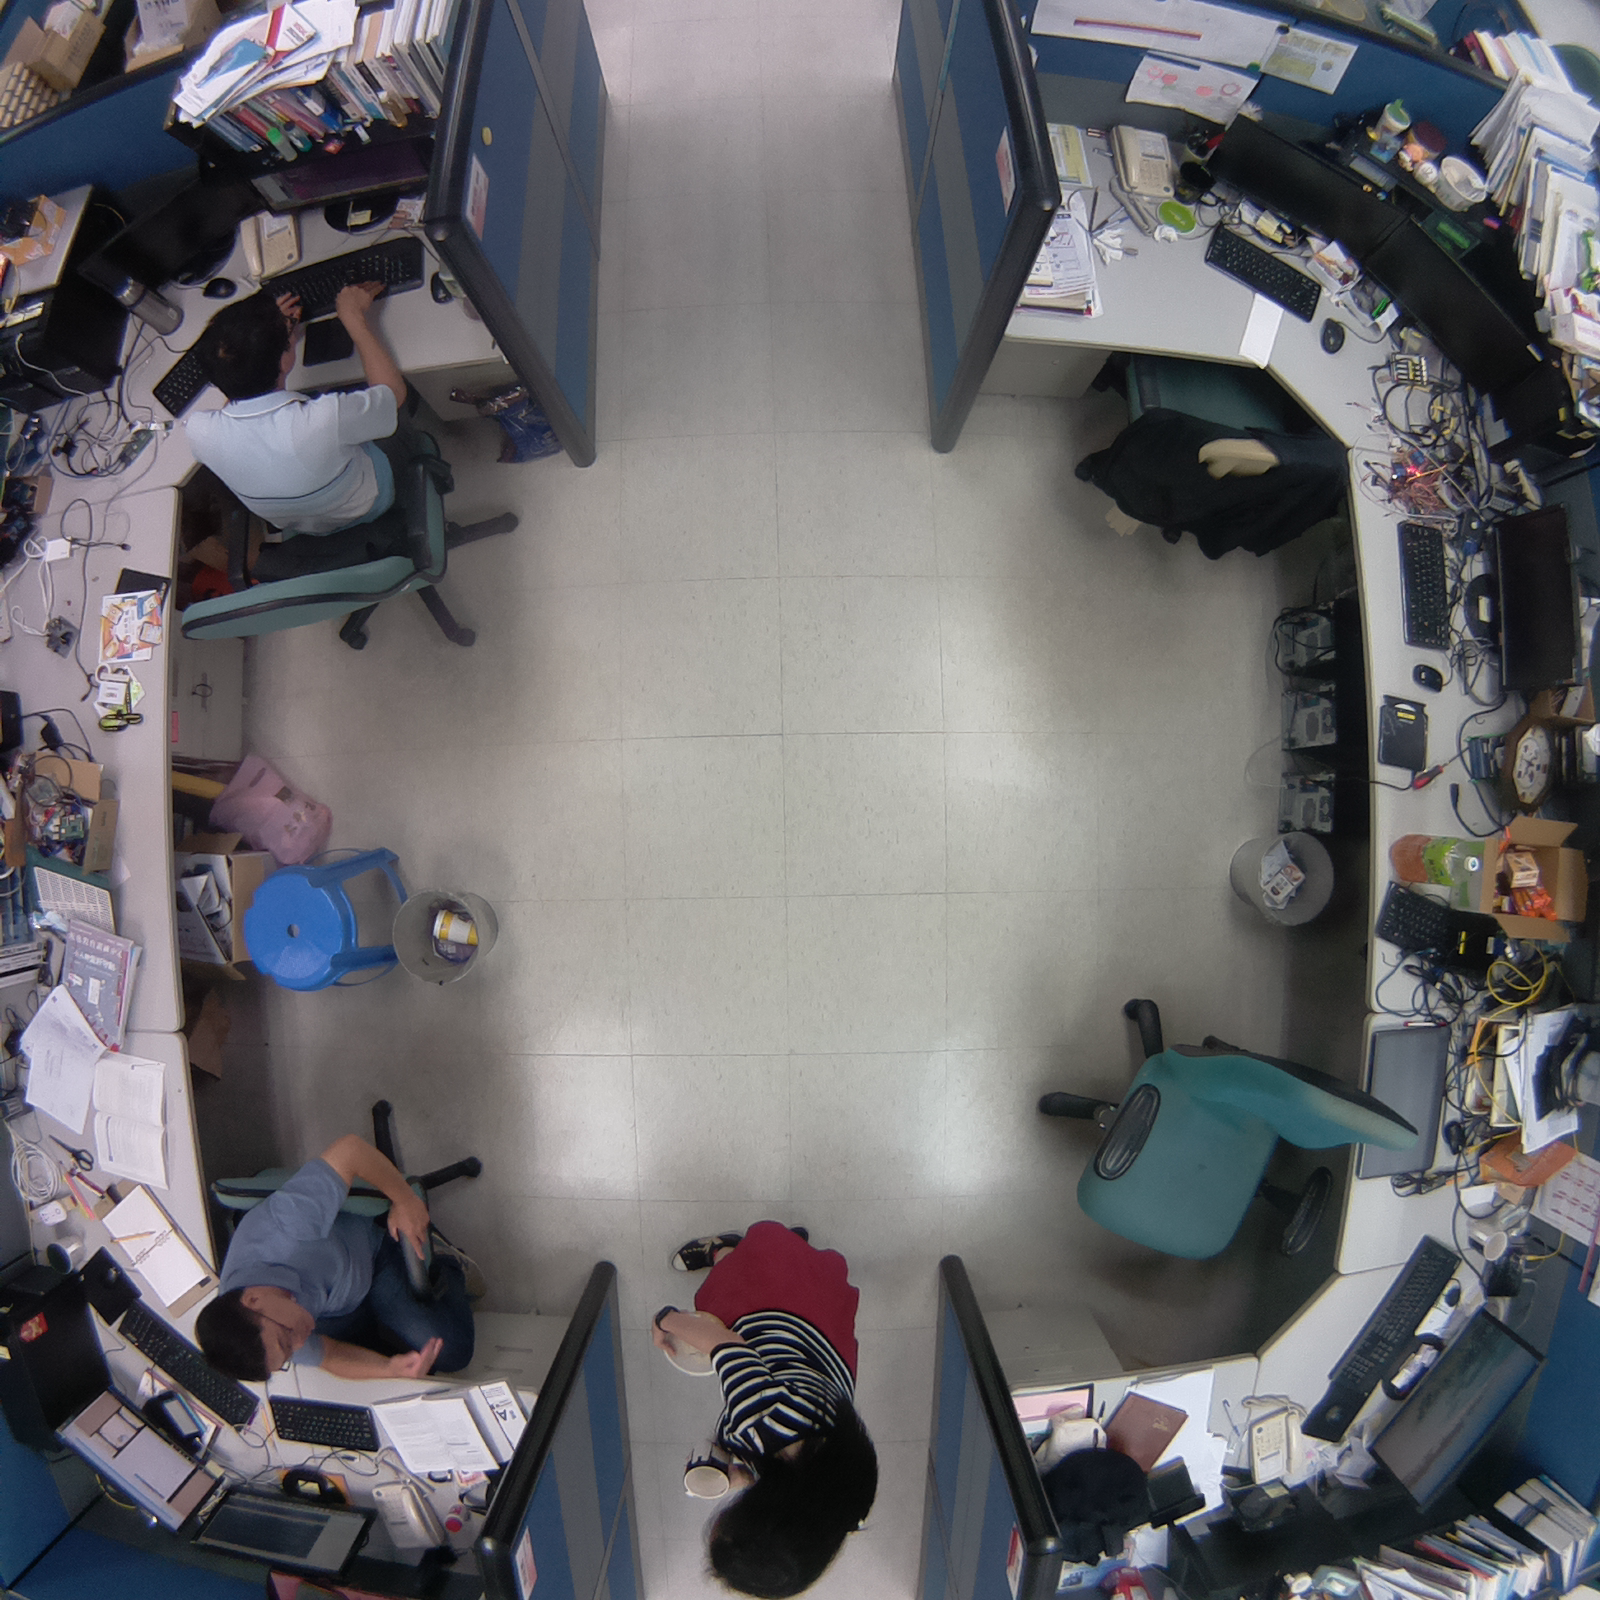chair: (1017, 975, 1422, 1288), (1068, 332, 1353, 578)
head: (701, 1400, 886, 1600), (192, 1276, 323, 1391), (194, 298, 312, 400)
sitting: (168, 277, 542, 673), (175, 1078, 506, 1400)
standing: (641, 1200, 894, 1600)
